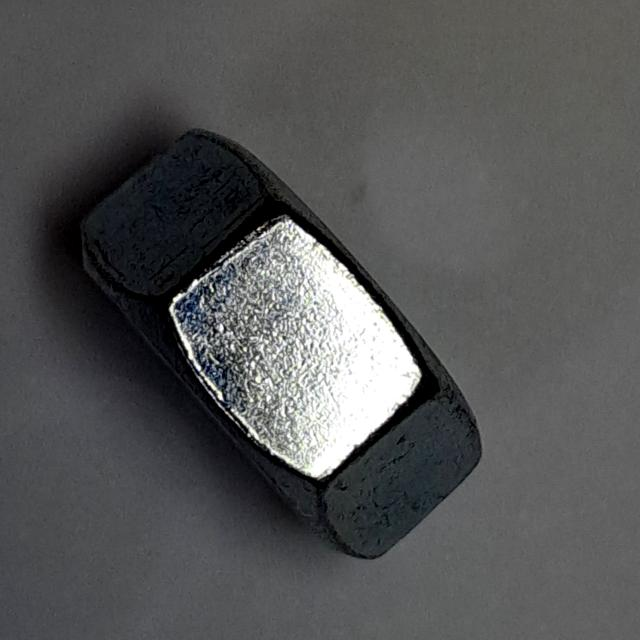Side_Excellent: (66, 119, 503, 573)
